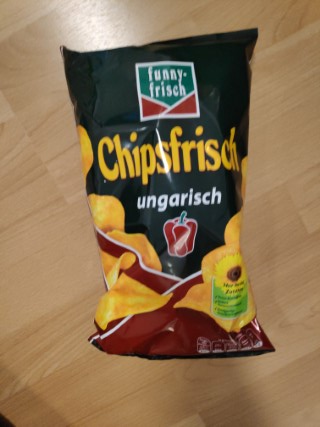chipsfrisch: (58, 29, 277, 361)
